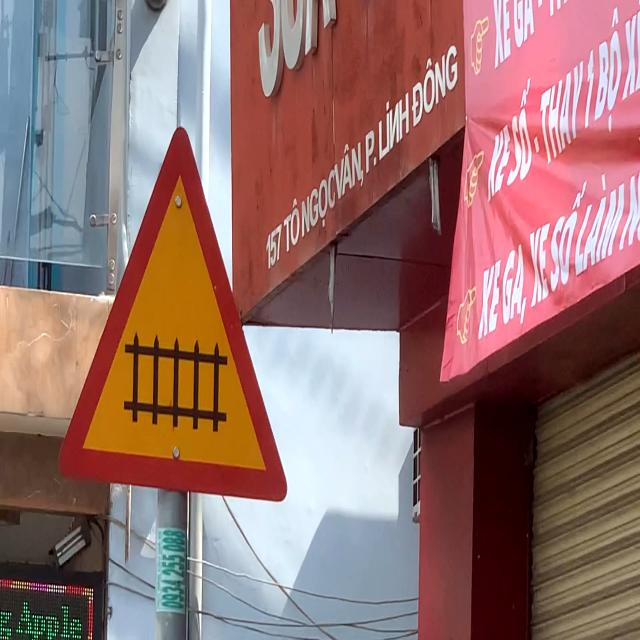W.210: (54, 121, 291, 506)
